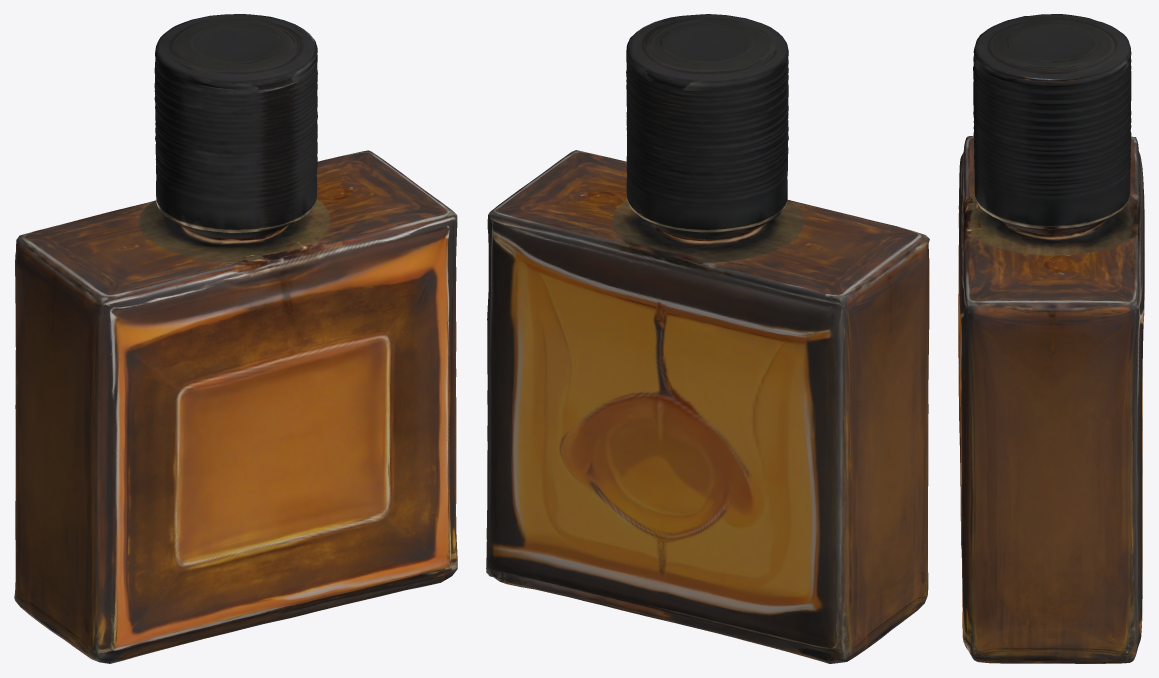
File: square_compact.glb
The picture shows the model from 3 angles, left to right: view 1: azimuth 30°, elevation 25°; view 2: azimuth 150°, elevation 25°; view 3: azimuth 270°, elevation 25°; orthographic projection. The views are drawn at different scales.
Visible parts, largest first — view 1: Bottle; view 2: Bottle; view 3: Bottle.
Boxes of the visible parts, x1,y1,x2,y2 form: Bottle: [14, 14, 457, 663]; Bottle: [486, 14, 929, 663]; Bottle: [958, 14, 1144, 663].
Size of what is drawn, in the model's own units: 0.6908 by 1 by 0.3111.
1 material, 1 textured.
